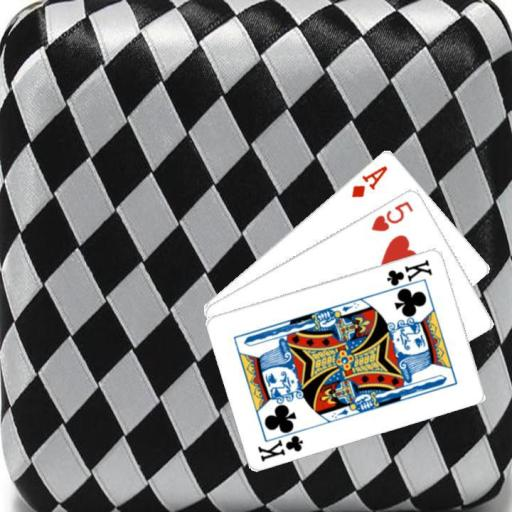5H: (369, 197, 416, 233)
AD: (348, 162, 390, 199)
KC: (255, 424, 307, 463), (383, 256, 434, 294)
